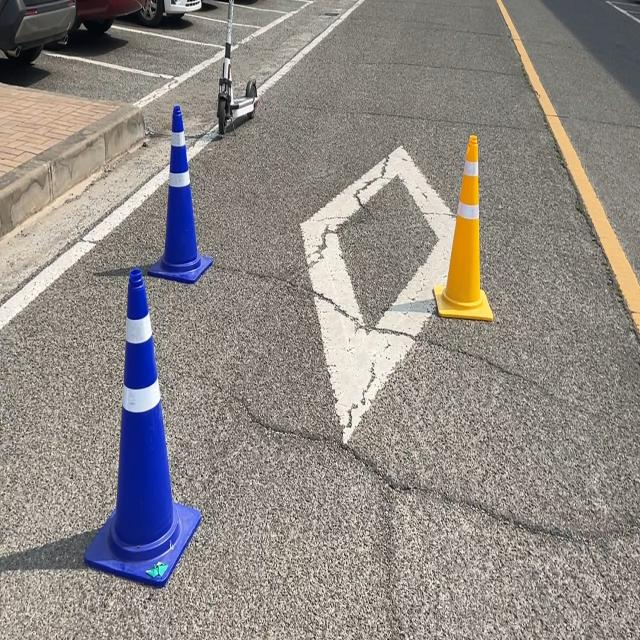b_rub: (84, 268, 200, 587), (148, 103, 213, 282)
y_rub: (434, 134, 494, 320)
